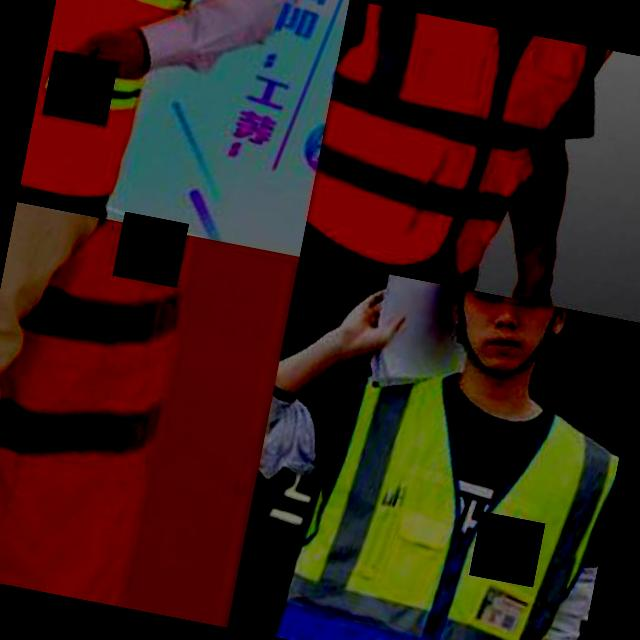vest: (0, 202, 294, 627), (272, 341, 630, 640), (301, 0, 606, 299), (20, 0, 240, 218)
